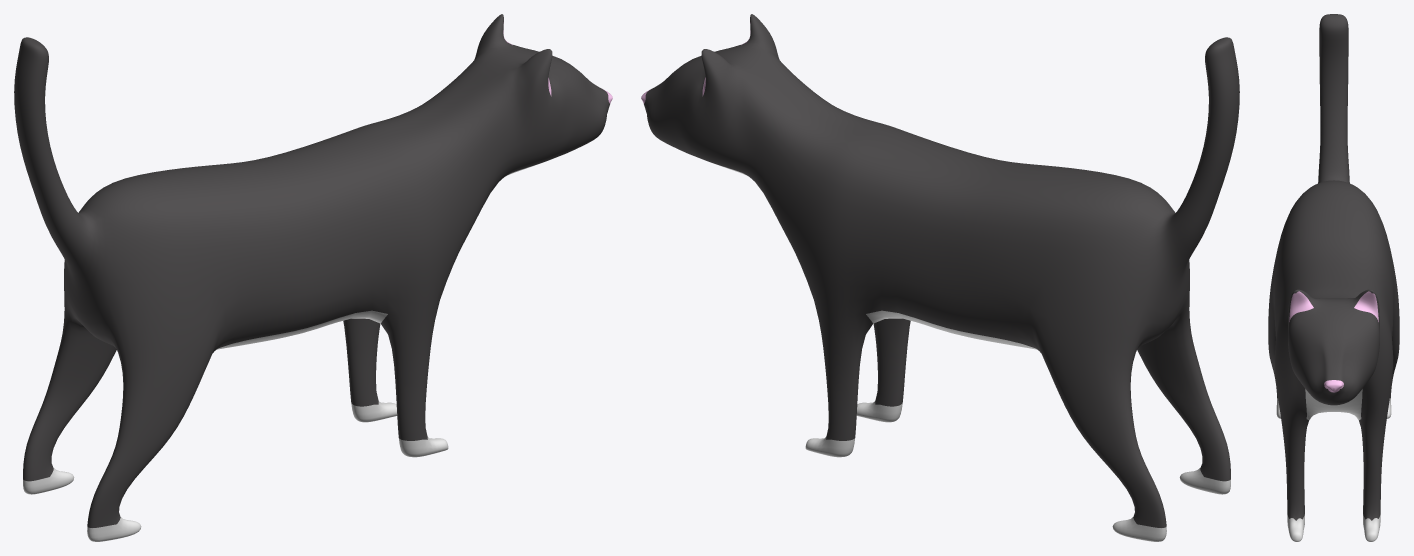
The model's file is cat.glb.
The picture shows the model from 3 angles, left to right: view 1: azimuth 30°, elevation 25°; view 2: azimuth 150°, elevation 25°; view 3: azimuth 270°, elevation 25°; orthographic projection. The views are drawn at different scales.
Parts seen in each view (by area): view 1: Cat; view 2: Cat; view 3: Cat.
Boxes of the visible parts, x1,y1,x2,y2 form: Cat: (14,14,612,541); Cat: (641,14,1239,541); Cat: (1268,14,1399,541).
Bounding box in the file's own units: 5.63 × 4.41 × 1.39.
